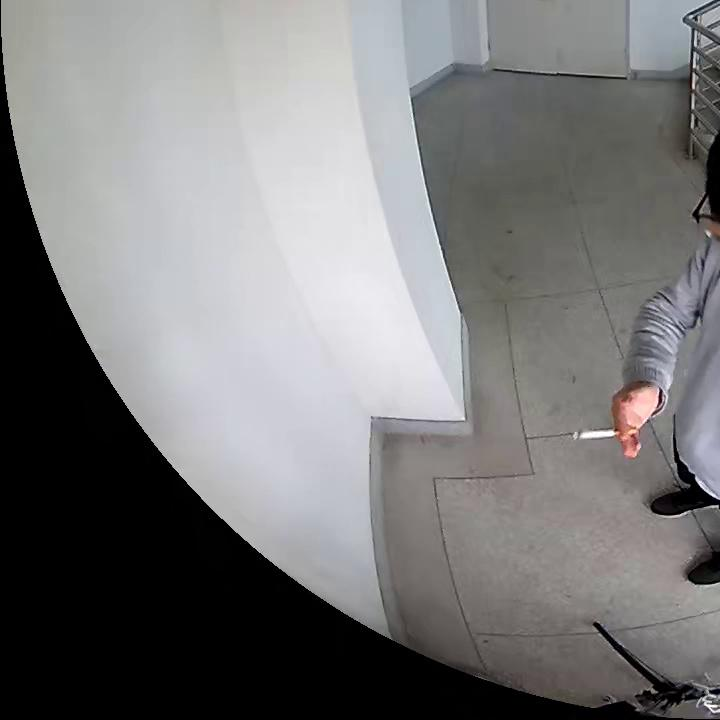handsmoke: (572, 387, 661, 458)
